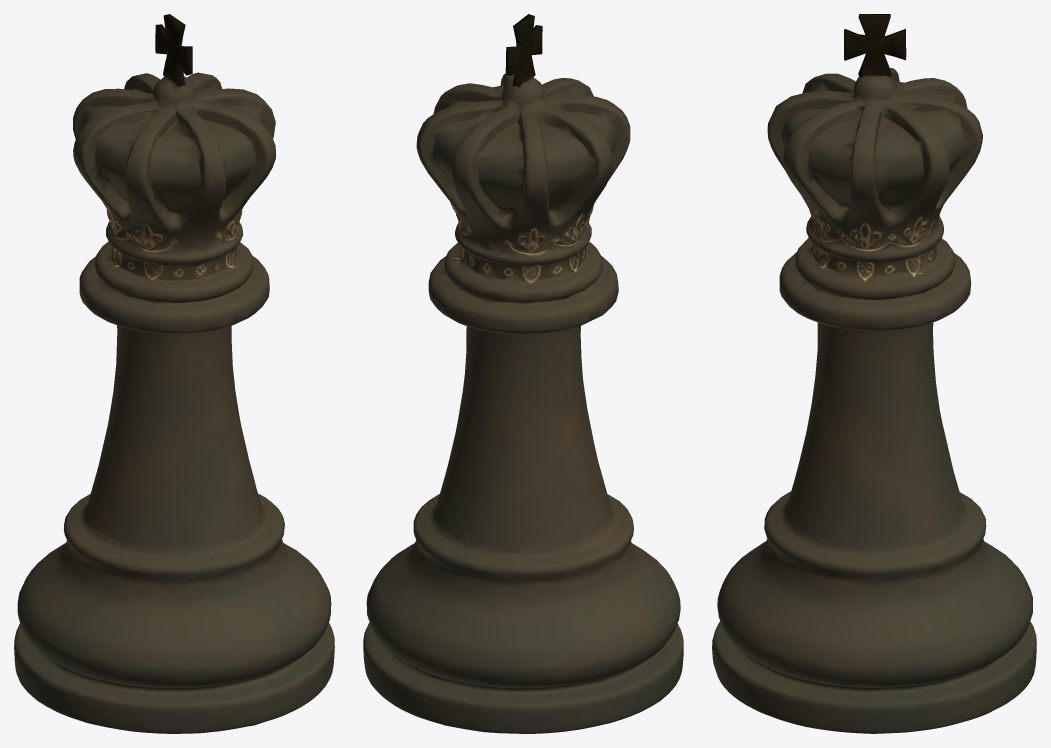
The model's file is king.glb.
3 renders of one model, left to right at view 1: azimuth 30°, elevation 25°; view 2: azimuth 150°, elevation 25°; view 3: azimuth 270°, elevation 25°, orthographic.
Visible parts, largest first — view 1: tripo_node_39a29597-c9ec-450c-b8af-ee6e6082f058; view 2: tripo_node_39a29597-c9ec-450c-b8af-ee6e6082f058; view 3: tripo_node_39a29597-c9ec-450c-b8af-ee6e6082f058.
Part boxes in pixels (x1,y1,x2,y2): tripo_node_39a29597-c9ec-450c-b8af-ee6e6082f058: (14,14,334,733); tripo_node_39a29597-c9ec-450c-b8af-ee6e6082f058: (363,14,683,733); tripo_node_39a29597-c9ec-450c-b8af-ee6e6082f058: (712,14,1036,733).
Size of the model in its own units: 0.4494 by 1 by 0.4506.
Materials: 1 (1 with a texture image).
